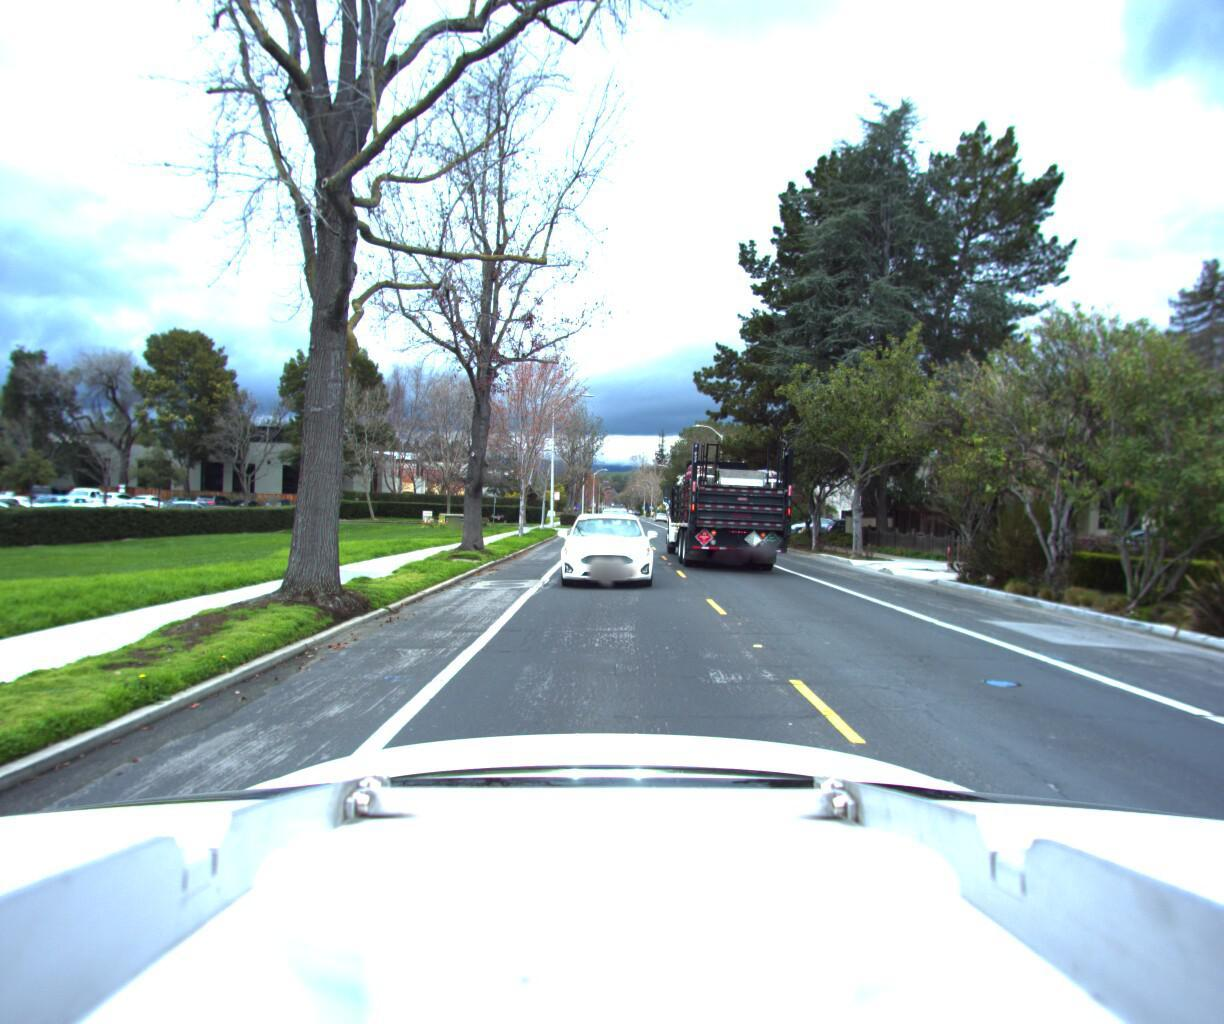car: (556, 514, 656, 597), (787, 518, 849, 536), (599, 511, 633, 537)
truck: (660, 446, 794, 575)
